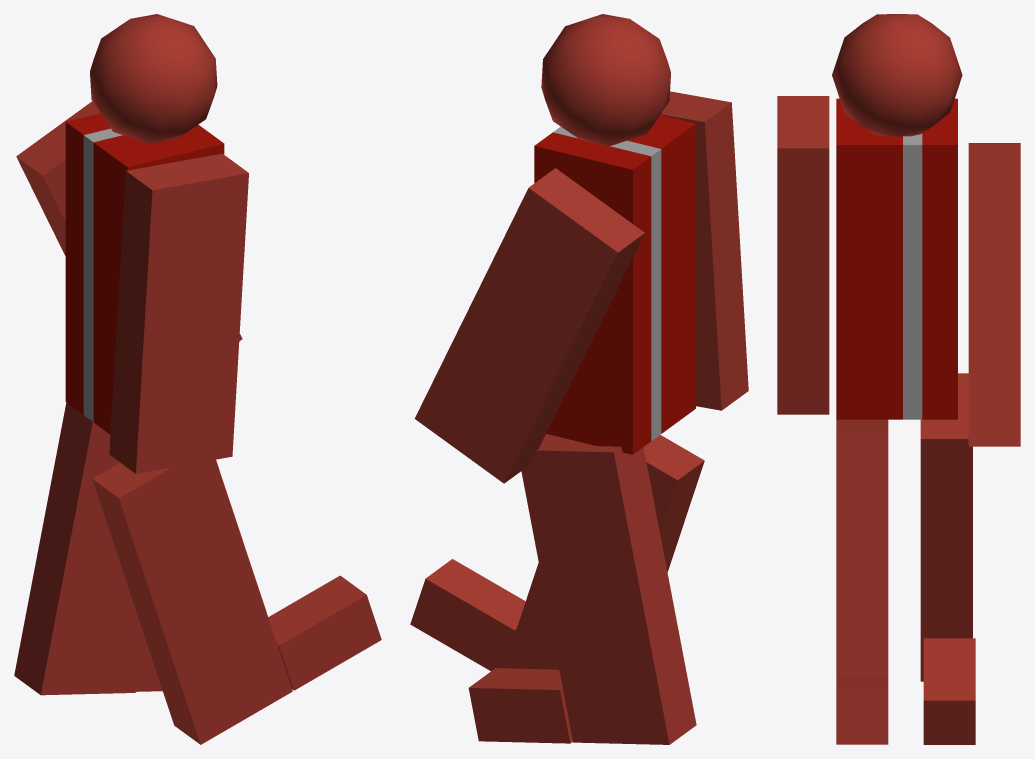
The model's file is player_000035.obj.
The picture shows the model from 3 angles, left to right: view 1: azimuth 30°, elevation 25°; view 2: azimuth 150°, elevation 25°; view 3: azimuth 270°, elevation 25°; orthographic projection. The views are drawn at different scales.
Visible parts, largest first — view 1: Cube.013, Cube.010, Cube.008, Cube.007, Icosphere.001, Cube.011, Cube.012, Cube.009; view 2: Cube.008, Cube.012, Cube.007, Cube.013, Icosphere.001, Cube.011, Cube.010, Cube.009; view 3: Cube.007, Cube.013, Cube.012, Cube.010, Icosphere.001, Cube.008, Cube.009, Cube.011.
Part boxes in pixels (x1,y1,x2,y2): Cube.013: [109, 153, 248, 473]; Cube.010: [92, 459, 292, 744]; Cube.008: [14, 403, 145, 695]; Cube.007: [65, 113, 224, 434]; Icosphere.001: [90, 14, 217, 143]; Cube.011: [268, 575, 381, 690]; Cube.012: [16, 101, 242, 341]; Cube.009: [135, 640, 162, 691]; Cube.008: [521, 434, 696, 744]; Cube.012: [414, 168, 644, 483]; Cube.007: [534, 115, 695, 454]; Cube.013: [660, 91, 748, 410]; Icosphere.001: [541, 14, 670, 146]; Cube.011: [410, 559, 525, 670]; Cube.010: [503, 435, 704, 669]; Cube.009: [468, 668, 572, 743]; Cube.007: [836, 98, 957, 419]; Cube.013: [777, 96, 829, 414]; Cube.012: [968, 143, 1020, 446]; Cube.010: [836, 419, 888, 676]; Icosphere.001: [832, 14, 962, 136]; Cube.008: [920, 373, 972, 681]; Cube.009: [923, 638, 975, 744]; Cube.011: [836, 676, 888, 744].
Bounding box in the file's own units: 1.27 × 2.87 × 0.9137.
